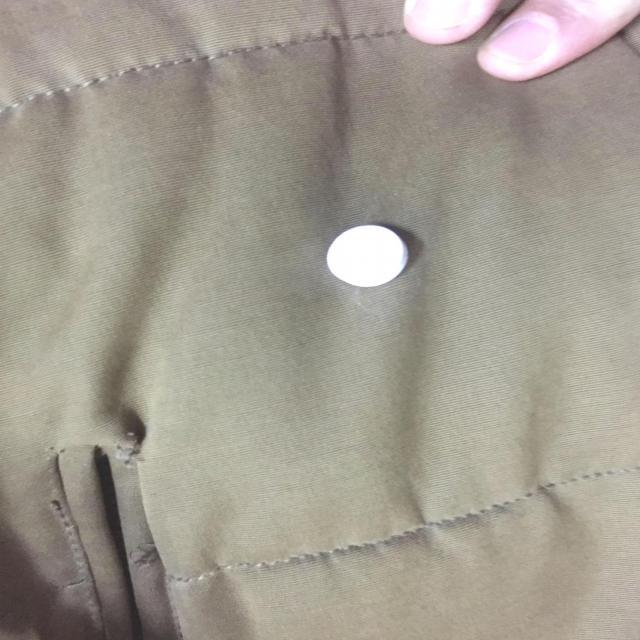pill: (313, 219, 412, 295)
